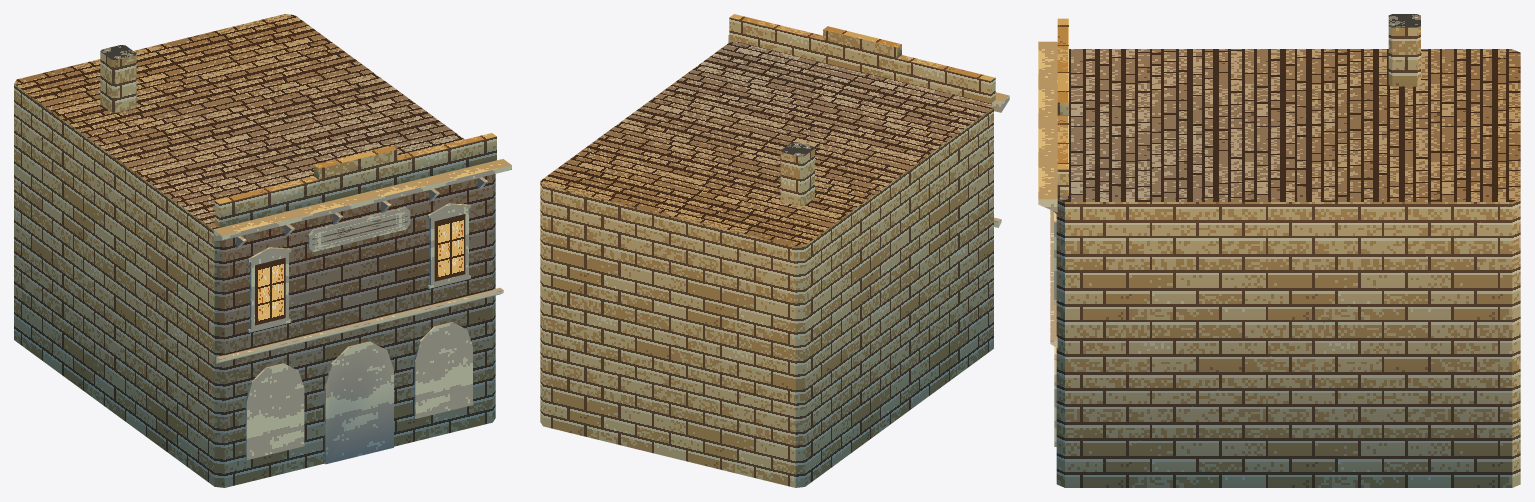
Rendered from wtown.bank.glb.
3 renders of one model, left to right at view 1: azimuth 30°, elevation 25°; view 2: azimuth 150°, elevation 25°; view 3: azimuth 270°, elevation 25°, orthographic. The views are drawn at different scales.
Parts seen in each view (by area): view 1: kit_body, kit_trim, kit_windows, kit_card_panes, kit_chimney; view 2: kit_body, kit_trim, kit_chimney; view 3: kit_body, kit_trim, kit_chimney, kit_windows.
Part boxes in pixels (x1,y1,x2,y2): kit_body: (14,14,495,487); kit_trim: (213,133,511,464); kit_windows: (245,203,472,459); kit_card_panes: (255,210,465,325); kit_chimney: (100,45,136,112); kit_body: (540,41,993,487); kit_trim: (728,14,1009,227); kit_chimney: (780,142,814,206); kit_body: (1056,49,1520,487); kit_trim: (1038,18,1068,347); kit_chimney: (1388,14,1420,86); kit_windows: (1054,212,1056,446).
Size of the model in its own units: 8.04 by 8.2 by 10.4.
7 materials, 7 textured.
